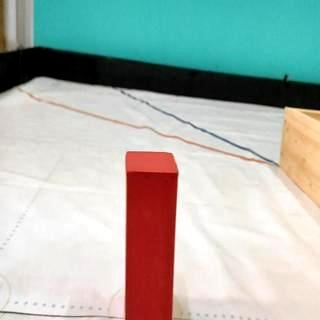redbox: (125, 150, 178, 320)
